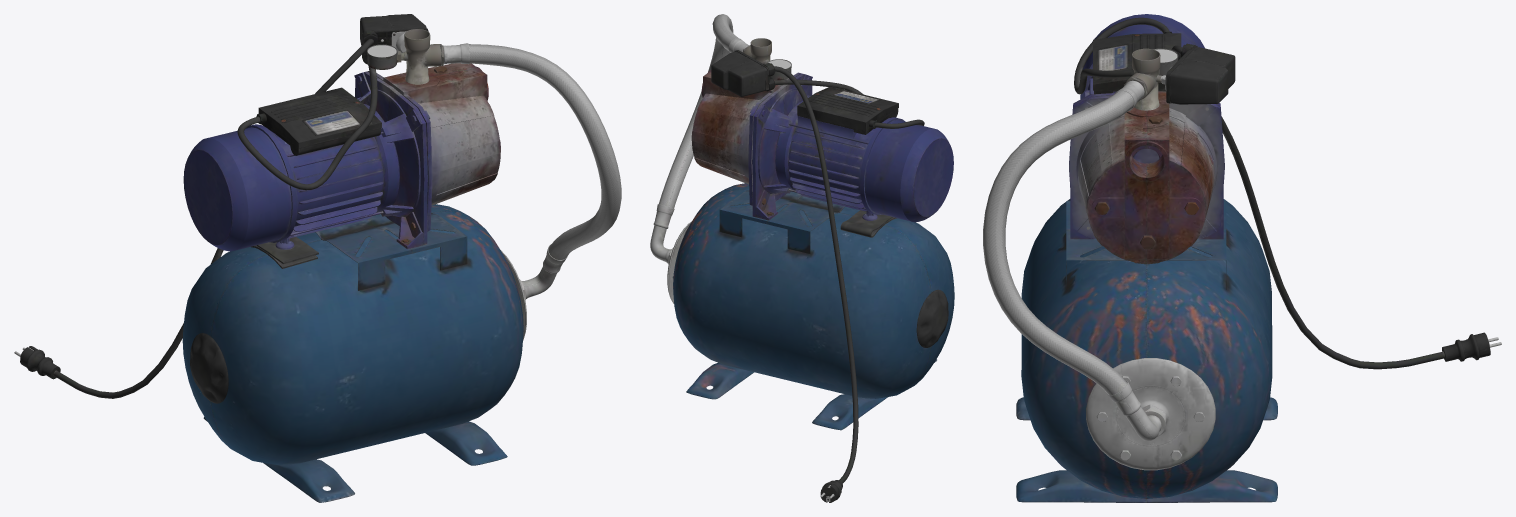
File: pump-transformed.glb
The picture shows the model from 3 angles, left to right: view 1: azimuth 30°, elevation 25°; view 2: azimuth 150°, elevation 25°; view 3: azimuth 270°, elevation 25°; orthographic projection. The views are drawn at different scales.
Parts seen in each view (by area): view 1: Pump_Pump_0; view 2: Pump_Pump_0; view 3: Pump_Pump_0.
Part boxes in pixels (box(x1,y1,x2,y2)): Pump_Pump_0: box(14, 14, 621, 502); Pump_Pump_0: box(650, 14, 954, 502); Pump_Pump_0: box(983, 14, 1501, 502).
Size of the model in its own units: 0.8409 by 0.8097 by 0.8839.
1 material, 1 textured.
